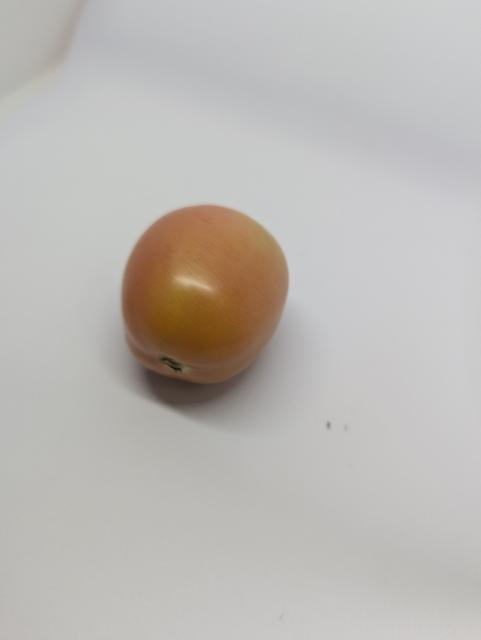turning: (115, 195, 300, 395)
